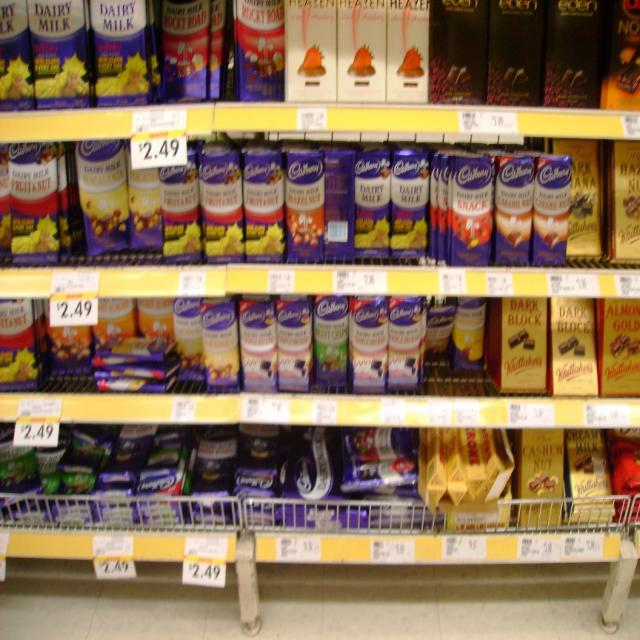q145: (28, 0, 92, 111), (91, 0, 159, 101), (388, 142, 432, 254), (162, 152, 204, 259), (352, 146, 389, 267), (202, 158, 243, 264), (245, 158, 285, 262)
